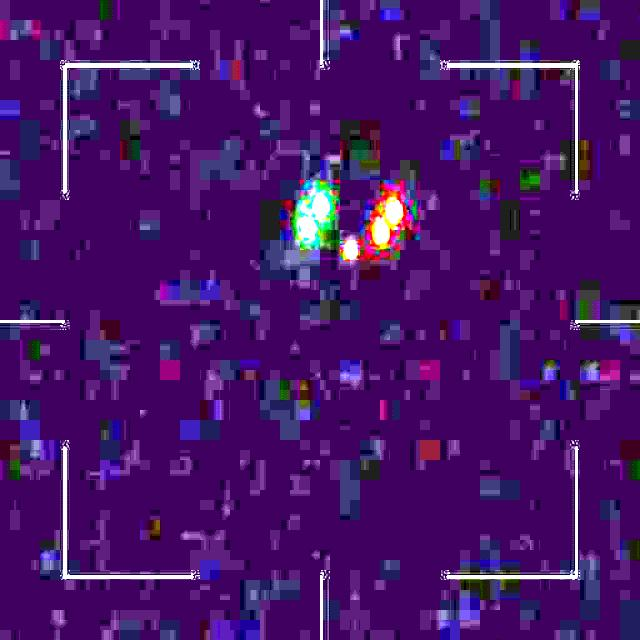bird: (298, 186, 404, 256)
